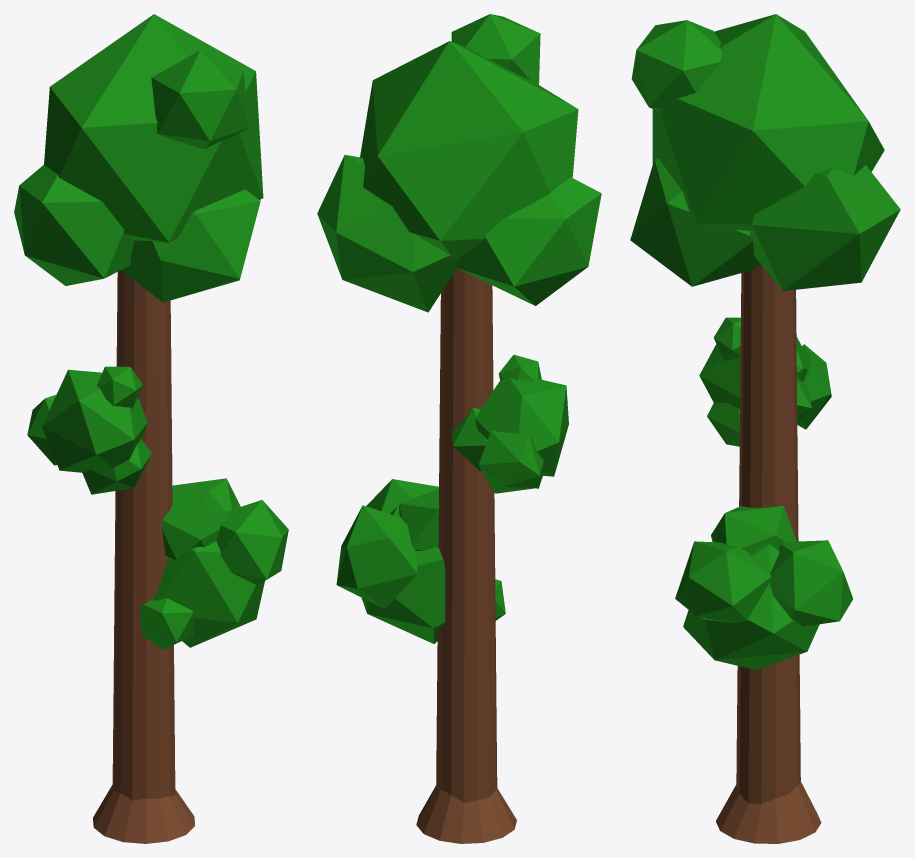
Rendered from LowPolyTree5Large.fbx.
The picture shows the model from 3 angles, left to right: view 1: azimuth 30°, elevation 25°; view 2: azimuth 150°, elevation 25°; view 3: azimuth 270°, elevation 25°; orthographic projection. The views are drawn at different scales.
Visible parts, largest first — view 1: Leaves, Tree5, Leaves.002, Leaves.001; view 2: Leaves, Tree5, Leaves.002, Leaves.001; view 3: Leaves, Tree5, Leaves.002, Leaves.001.
Boxes of the visible parts, x1,y1,x2,y2 form: Leaves: (14, 14, 263, 302); Tree5: (93, 270, 194, 843); Leaves.002: (140, 478, 288, 649); Leaves.001: (27, 366, 151, 494); Leaves: (317, 14, 601, 312); Tree5: (416, 268, 516, 843); Leaves.002: (336, 479, 505, 643); Leaves.001: (451, 354, 568, 493); Leaves: (630, 14, 900, 290); Tree5: (716, 263, 821, 843); Leaves.002: (675, 506, 852, 669); Leaves.001: (699, 317, 831, 446).
Bounding box in the file's own units: 2440 × 7498 × 2256.
